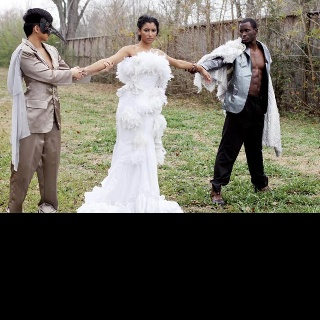without_mask: (137, 14, 159, 43), (238, 24, 254, 41)
